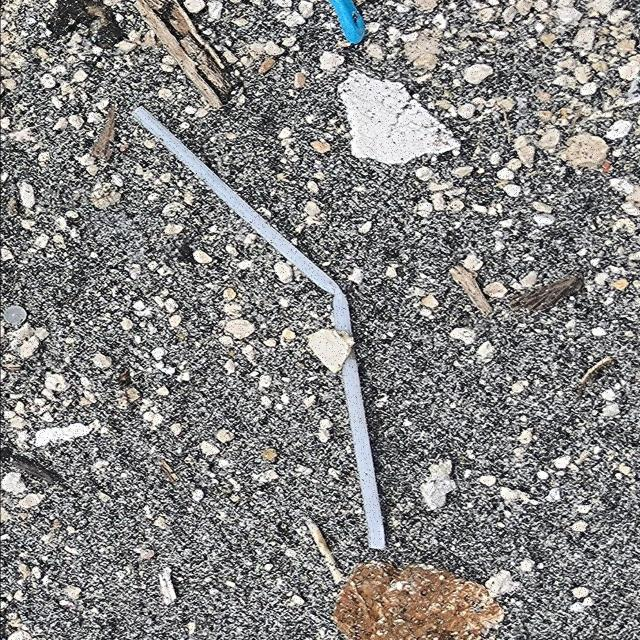plastic_waste: (132, 106, 389, 552)
